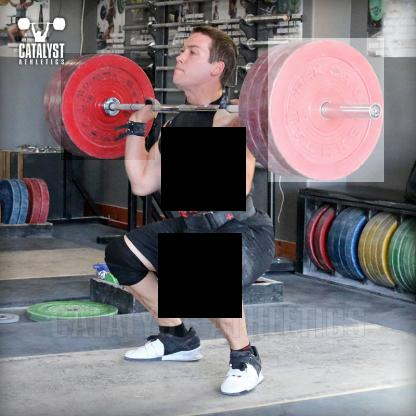barbell: (269, 39, 385, 183), (62, 54, 156, 161)
